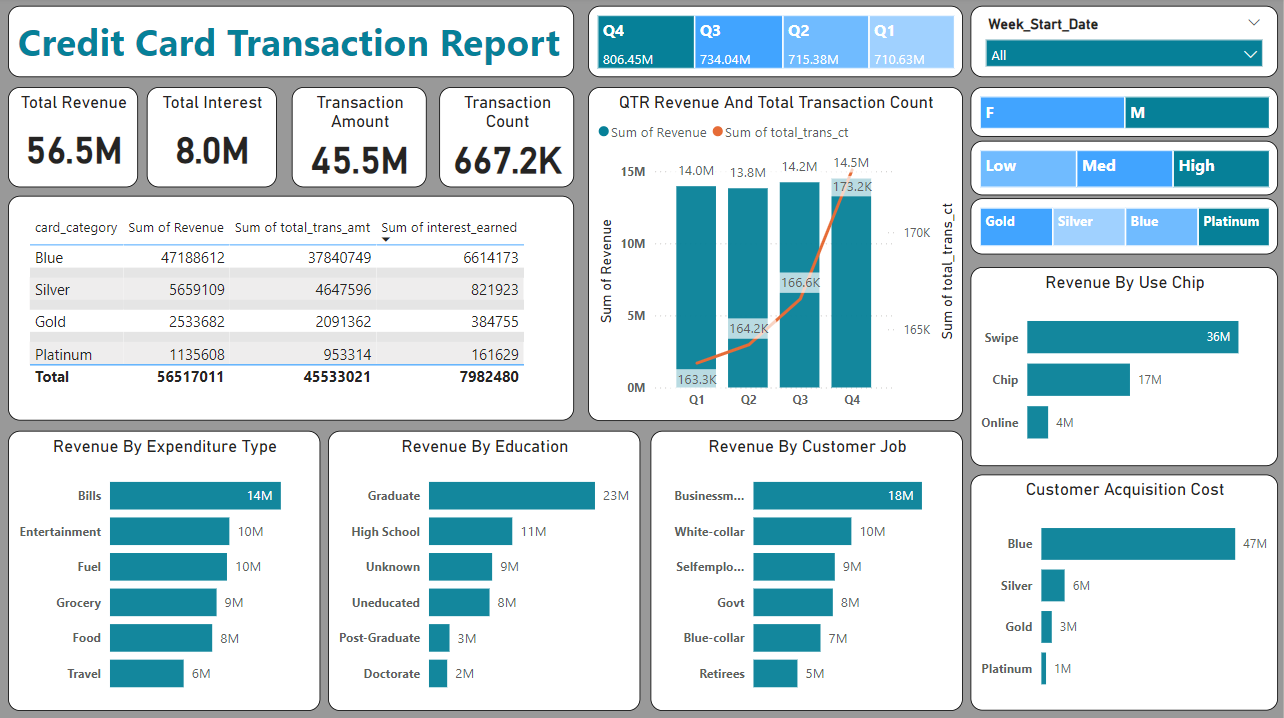

Layout of this report page (visuals, bound fields, positions):
{"tool":"powerbi","page":{"name":"Credit Card Transaction","canvas":[1280,720],"ordinal":0},"visuals":[{"type":"textbox","box":[10,8.7,564.2,71],"z":0},{"type":"lineStackedColumnComboChart","title":"QTR Revenue And Total Transaction Count","fields":{"Category":["public cc_detail.qtr"],"Y":["Sum(public cc_detail.Revenue)"],"Y2":["Sum(public cc_detail.total_trans_ct)"]},"box":[587.8,89.7,373.6,332.5],"z":1000},{"type":"barChart","title":"Revenue By Expenditure Type","fields":{"Category":["public cc_detail.exp_type"],"Y":["Sum(public cc_detail.Revenue)"]},"box":[10,432.1,311.3,279],"z":2000},{"type":"barChart","title":"Revenue By Education","fields":{"Y":["Sum(public cc_detail.Revenue)"],"Category":["public cust_detail.education_level"]},"box":[328.8,432.1,311.3,279],"z":3000},{"type":"barChart","title":"Revenue By Customer Job","fields":{"Y":["Sum(public cc_detail.Revenue)"],"Category":["public cust_detail.customer_job"]},"box":[650.1,432.1,311.3,279],"z":4000},{"type":"barChart","title":"Customer Acquisition Cost","fields":{"Y":["Sum(public cc_detail.Revenue)"],"Category":["public cc_detail.card_category"]},"box":[968.9,475.7,306.4,235.4],"z":5000},{"type":"barChart","title":"Revenue By Use Chip","fields":{"Y":["Sum(public cc_detail.Revenue)"],"Category":["public cc_detail.use_chip"]},"box":[968.9,269,306.4,198],"z":6000},{"type":"tableEx","fields":{"Values":["public cc_detail.card_category","Sum(public cc_detail.Revenue)","Sum(public cc_detail.total_trans_amt)","Sum(public cc_detail.interest_earned)"]},"box":[10,198,564.2,224.2],"z":7000},{"type":"card","title":"Total Revenue","fields":{"Values":["Sum(public cc_detail.Revenue)"]},"box":[10,89.7,129.5,99.6],"z":8000},{"type":"card","title":"Transaction Amount","fields":{"Values":["Sum(public cc_detail.total_trans_amt)"]},"box":[292.7,89.7,134.5,99.6],"z":9000},{"type":"card","title":"Total Interest","fields":{"Values":["Sum(public cc_detail.interest_earned)"]},"box":[148.2,89.7,129.5,99.6],"z":10000},{"type":"card","title":"Transaction Count","fields":{"Values":["Sum(public cc_detail.total_trans_ct)"]},"box":[439.6,89.7,134.5,99.6],"z":11000},{"type":"slicer","fields":{"Values":["public cc_detail.week_start_date"]},"box":[968.9,8.7,306.4,71],"z":12000},{"type":"treemap","fields":{"Group":["public cc_detail.qtr"],"Values":["Avg(public cc_detail.client_num)"]},"box":[587.8,8.7,373.6,71],"z":13000},{"type":"treemap","fields":{"Values":["Avg(public cc_detail.client_num)"],"Group":["public cust_detail.gender"]},"box":[968.9,89.7,306.4,49.8],"z":14000},{"type":"treemap","fields":{"Values":["Avg(public cc_detail.client_num)"],"Group":["public cc_detail.card_category"]},"box":[968.9,200.5,306.4,56],"z":15000},{"type":"treemap","fields":{"Values":["Avg(public cc_detail.client_num)"],"Group":["public cust_detail.IncomeGroup"]},"box":[968.9,143.2,306.4,54.8],"z":16000}]}

Visuals, with their boxes in screenshot pixels (x1, y1, x2, y2), scaled from the page's 1280x720 canvas onto the 1284x718 screenshot:
textbox: [10, 9, 576, 79]
"QTR Revenue And Total Transaction Count" lineStackedColumnComboChart: [590, 89, 964, 421]
"Revenue By Expenditure Type" barChart: [10, 431, 322, 709]
"Revenue By Education" barChart: [330, 431, 642, 709]
"Revenue By Customer Job" barChart: [652, 431, 964, 709]
"Customer Acquisition Cost" barChart: [972, 474, 1279, 709]
"Revenue By Use Chip" barChart: [972, 268, 1279, 466]
tableEx - public cc_detail.card_category x Sum(public cc_detail.Revenue): [10, 197, 576, 421]
"Total Revenue" card: [10, 89, 140, 189]
"Transaction Amount" card: [294, 89, 429, 189]
"Total Interest" card: [149, 89, 279, 189]
"Transaction Count" card: [441, 89, 576, 189]
slicer - public cc_detail.week_start_date: [972, 9, 1279, 79]
treemap - public cc_detail.qtr x Avg(public cc_detail.client_num): [590, 9, 964, 79]
treemap - Avg(public cc_detail.client_num) x public cust_detail.gender: [972, 89, 1279, 139]
treemap - Avg(public cc_detail.client_num) x public cc_detail.card_category: [972, 200, 1279, 256]
treemap - Avg(public cc_detail.client_num) x public cust_detail.IncomeGroup: [972, 143, 1279, 197]
